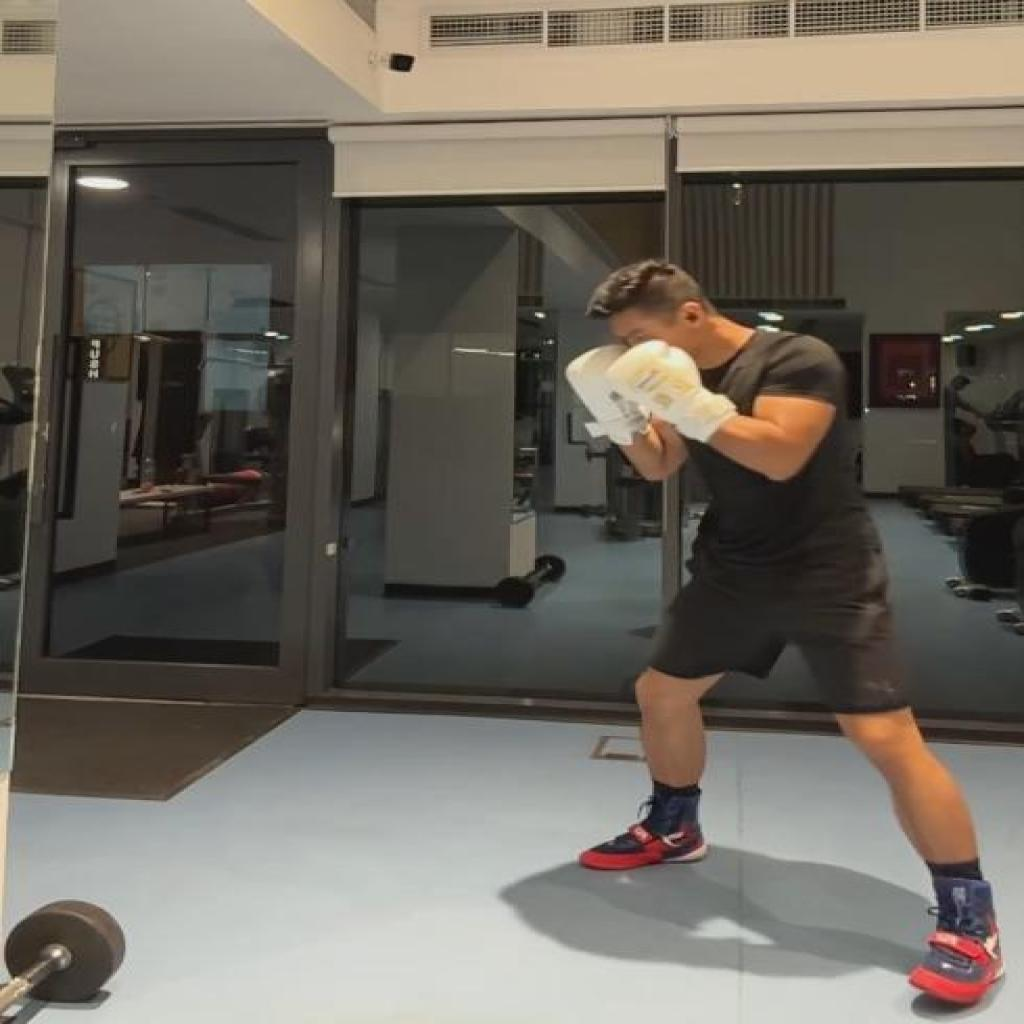no punch: (560, 256, 1014, 1005)
